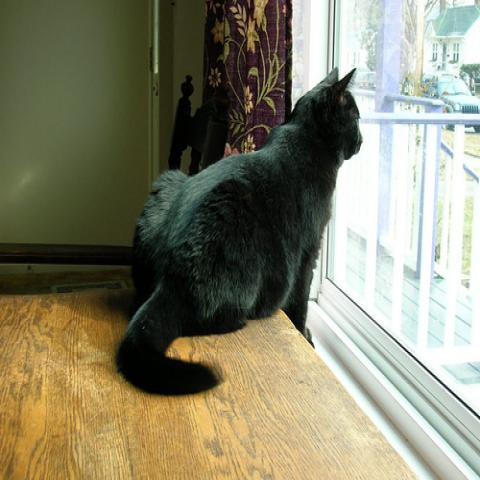car: (400, 65, 479, 132)
